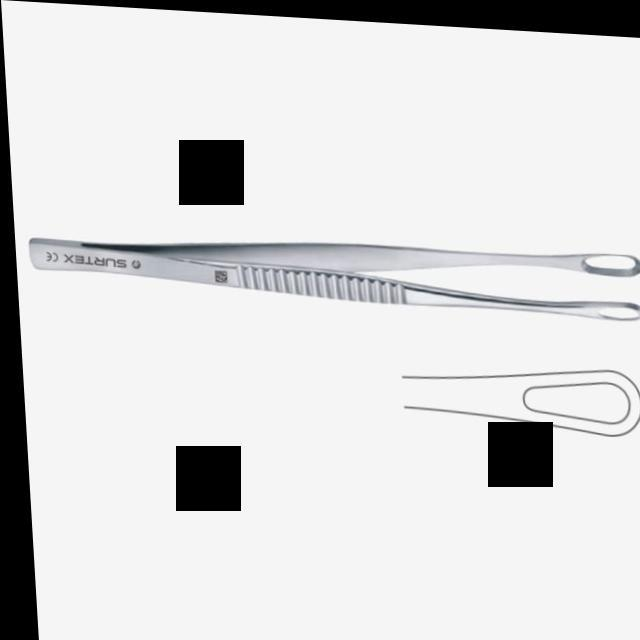Eye Intestinal Forceps: (17, 196, 640, 338)
